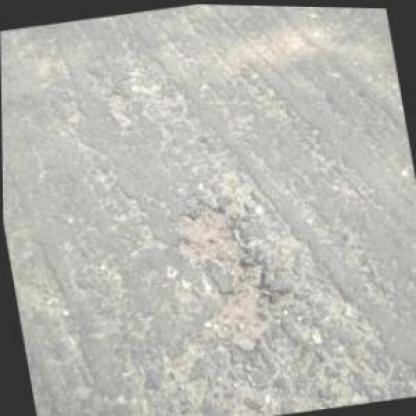pothole: (173, 195, 293, 356)
